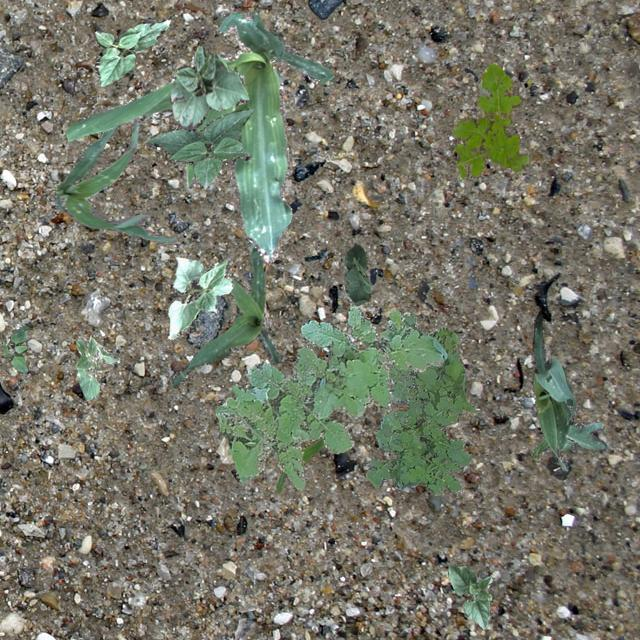crop: (65, 12, 334, 262), (170, 238, 280, 386), (54, 120, 176, 242), (532, 310, 606, 470), (146, 108, 252, 188), (170, 44, 248, 128), (166, 256, 232, 338), (94, 18, 168, 86), (446, 564, 492, 628), (75, 336, 116, 400), (276, 436, 324, 490), (342, 243, 370, 304)
weed: (214, 306, 446, 488), (364, 312, 476, 494), (449, 61, 528, 178), (1, 324, 28, 372)
